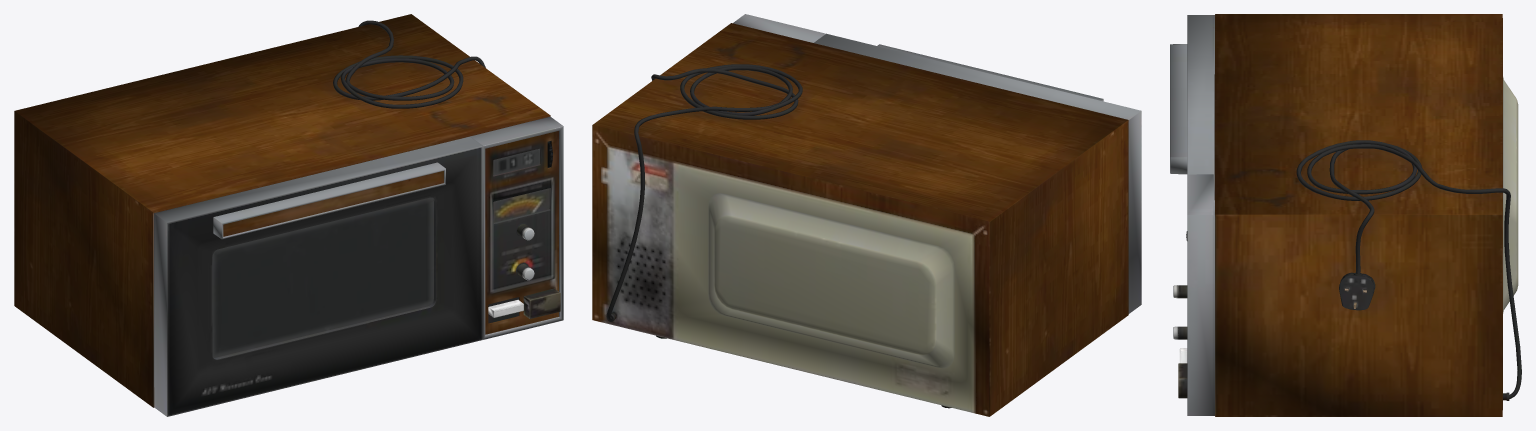
Rendered from microwave.glb.
3 renders of one model, left to right at view 1: azimuth 30°, elevation 25°; view 2: azimuth 150°, elevation 25°; view 3: azimuth 270°, elevation 25°, orthographic. The views are drawn at different scales.
Parts seen in each view (by area): view 1: vintage_microwave; view 2: vintage_microwave; view 3: vintage_microwave.
Part boxes in pixels (x1,y1,x2,y2): vintage_microwave: [14, 14, 563, 416]; vintage_microwave: [592, 14, 1141, 416]; vintage_microwave: [1170, 14, 1521, 416].
Size of the model in its own units: 1.07 by 0.5258 by 0.7456.
Materials: 2 (2 with a texture image).
